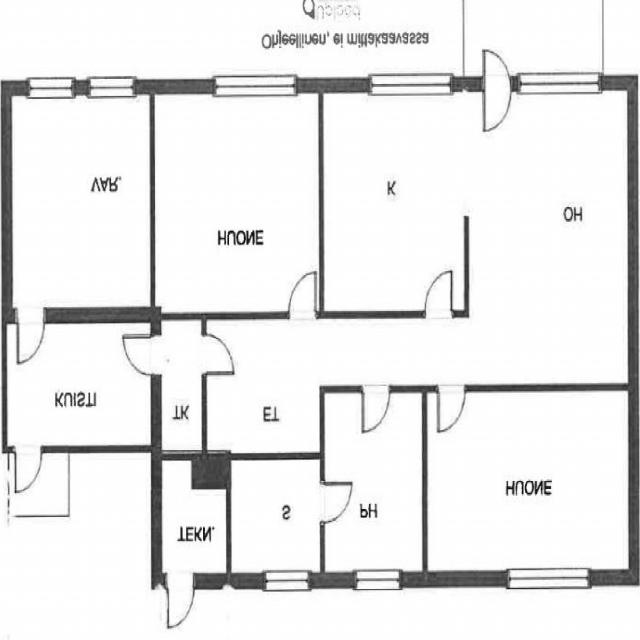door: (484, 75, 511, 128), (484, 37, 511, 90), (125, 337, 161, 376), (18, 308, 44, 360), (168, 574, 194, 625), (320, 483, 353, 523), (289, 274, 316, 318), (202, 336, 234, 373), (16, 445, 42, 490), (439, 385, 465, 430), (363, 385, 389, 430), (425, 275, 451, 318)
